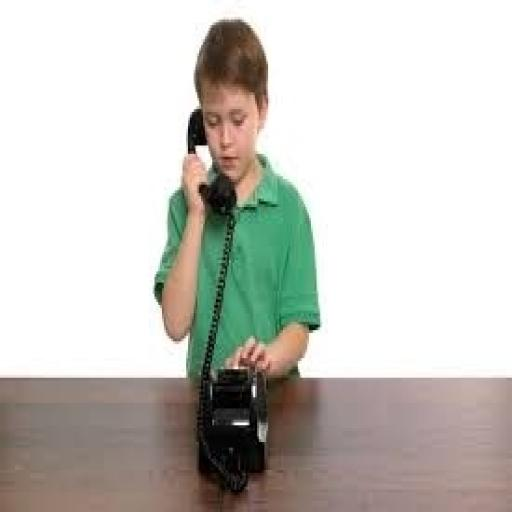calling: (151, 14, 322, 383)
